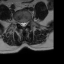CCS_normal: (22, 20, 24, 28)
LFS_normal: (26, 19, 29, 25)
LLS_normal: (24, 20, 26, 28)
RFS_normal: (17, 19, 20, 25)
RLS_normal: (20, 20, 22, 28)
